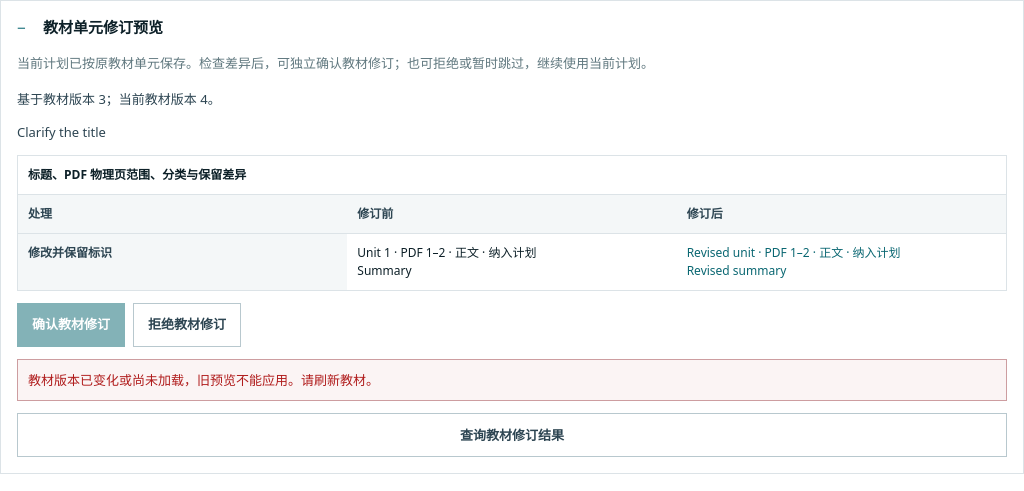
stale document disables acceptance while rejection leaves the document untouched
Click the button "拒绝教材修订" at {"x": 187, "y": 325}, box x1=133 y1=303 x2=241 y2=347
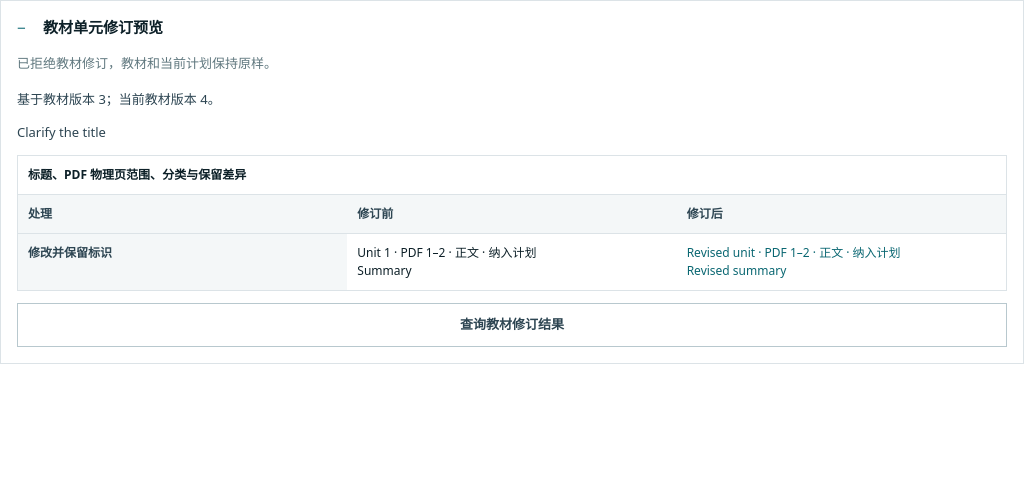
Now the text "已拒绝教材修订" is shown, box x1=17 y1=54 x2=277 y2=72
